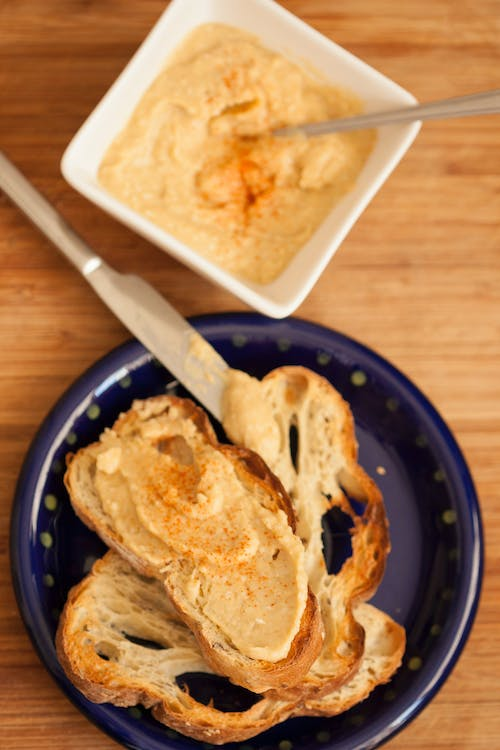knife: (0, 141, 239, 428)
